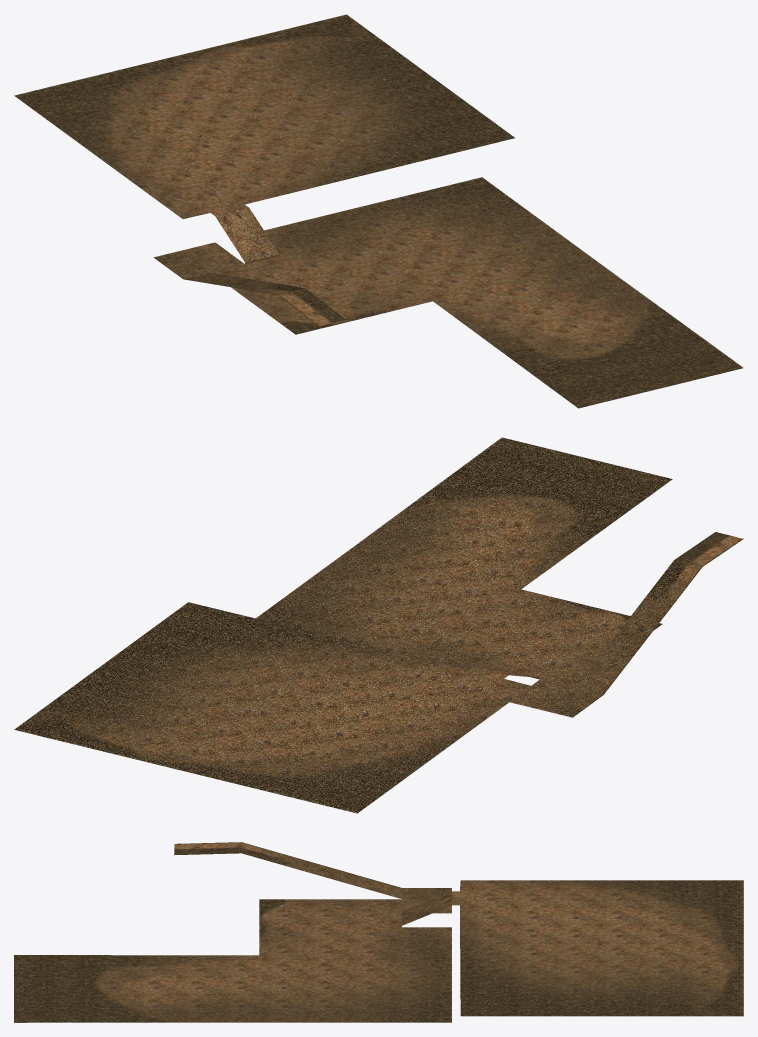
File: basis-1.glb
3 renders of one model, top to bottom at view 1: azimuth 30°, elevation 25°; view 2: azimuth 150°, elevation 25°; view 3: azimuth 270°, elevation 25°, orthographic. The views are drawn at different scales.
Parts seen in each view (by area): view 1: Basis-col; view 2: Basis-col; view 3: Basis-col.
Part boxes in pixels (x1,y1,x2,y2): Basis-col: (14, 14, 743, 408); Basis-col: (14, 437, 743, 813); Basis-col: (14, 842, 743, 1022).
Bounding box in the file's own units: 59.09 × 8.34 × 121.
Materials: 1 (1 with a texture image).
